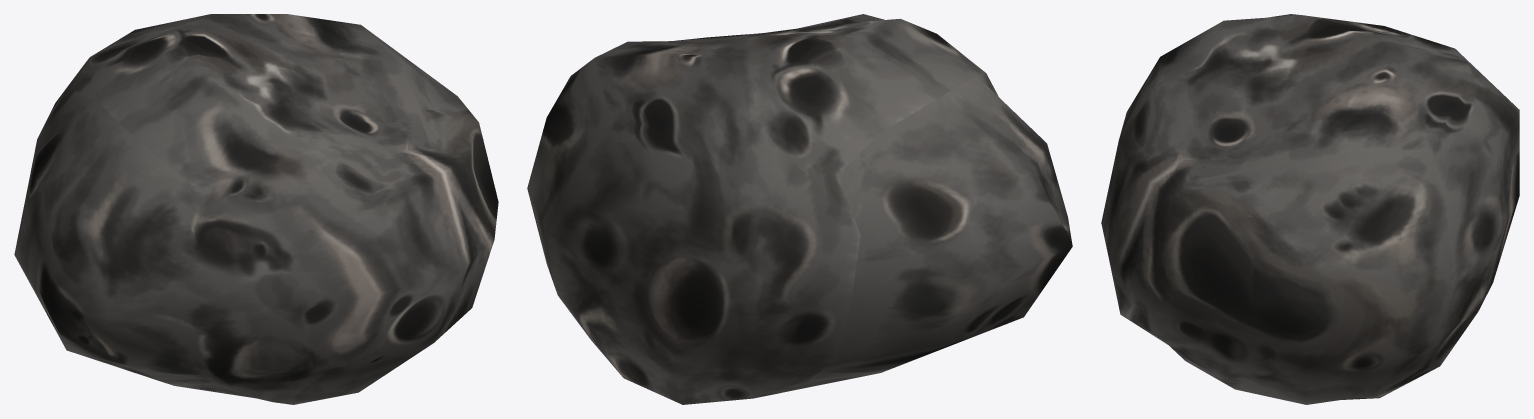
File: asteroide1.fbx
3 views of the same model, side by side, from view 1: azimuth 30°, elevation 25°; view 2: azimuth 150°, elevation 25°; view 3: azimuth 270°, elevation 25° (orthographic). The views are drawn at different scales.
Parts seen in each view (by area): view 1: pCube1; view 2: pCube1; view 3: pCube1.
Part boxes in pixels (x1,y1,x2,y2): pCube1: [14, 14, 498, 404]; pCube1: [527, 14, 1072, 404]; pCube1: [1101, 14, 1519, 404].
Size of the model in its own units: 1.16 by 0.8107 by 0.9435.
